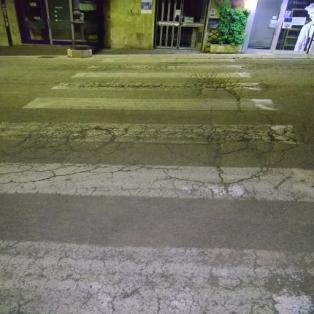Paso de Cebra: (17, 80, 290, 116)
